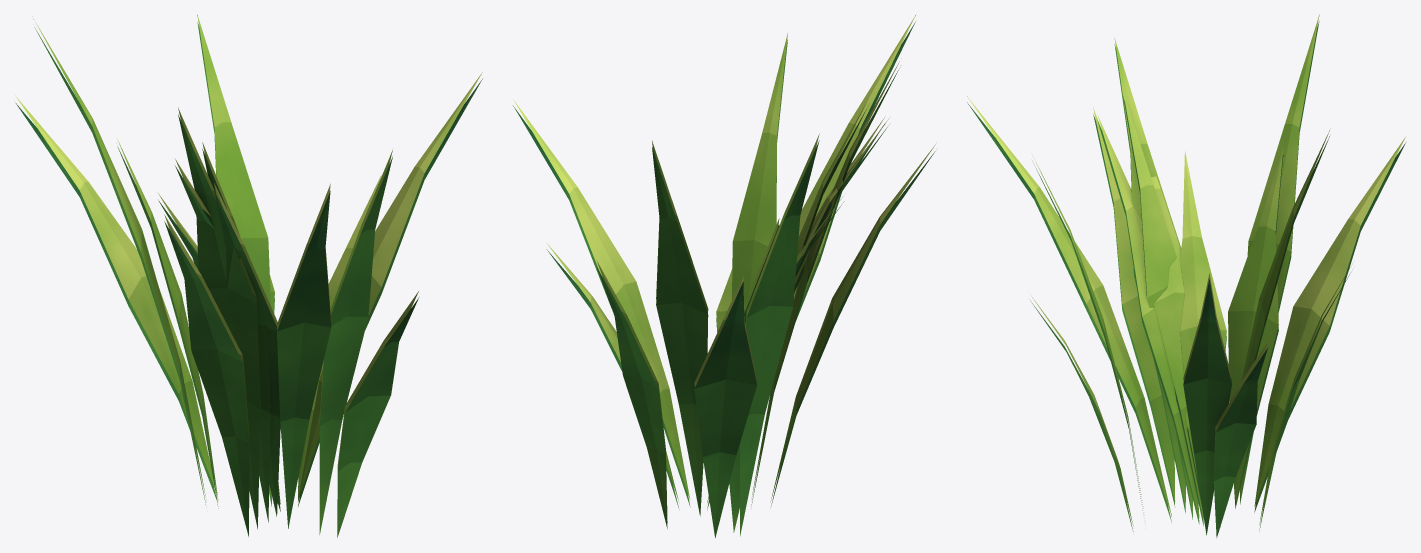
The model's file is Env_GrassTuft_1.glb.
The picture shows the model from 3 angles, left to right: view 1: azimuth 30°, elevation 25°; view 2: azimuth 150°, elevation 25°; view 3: azimuth 270°, elevation 25°; orthographic projection. The views are drawn at different scales.
Parts seen in each view (by area): view 1: Env_GrassTuft_1.001; view 2: Env_GrassTuft_1.001; view 3: Env_GrassTuft_1.001.
Boxes of the visible parts, x1,y1,x2,y2 form: Env_GrassTuft_1.001: [15, 15, 482, 537]; Env_GrassTuft_1.001: [513, 15, 935, 537]; Env_GrassTuft_1.001: [967, 15, 1405, 537].
Bounding box in the file's own units: 1.81 × 2.2 × 2.02.
Materials: 1 (1 with a texture image).
